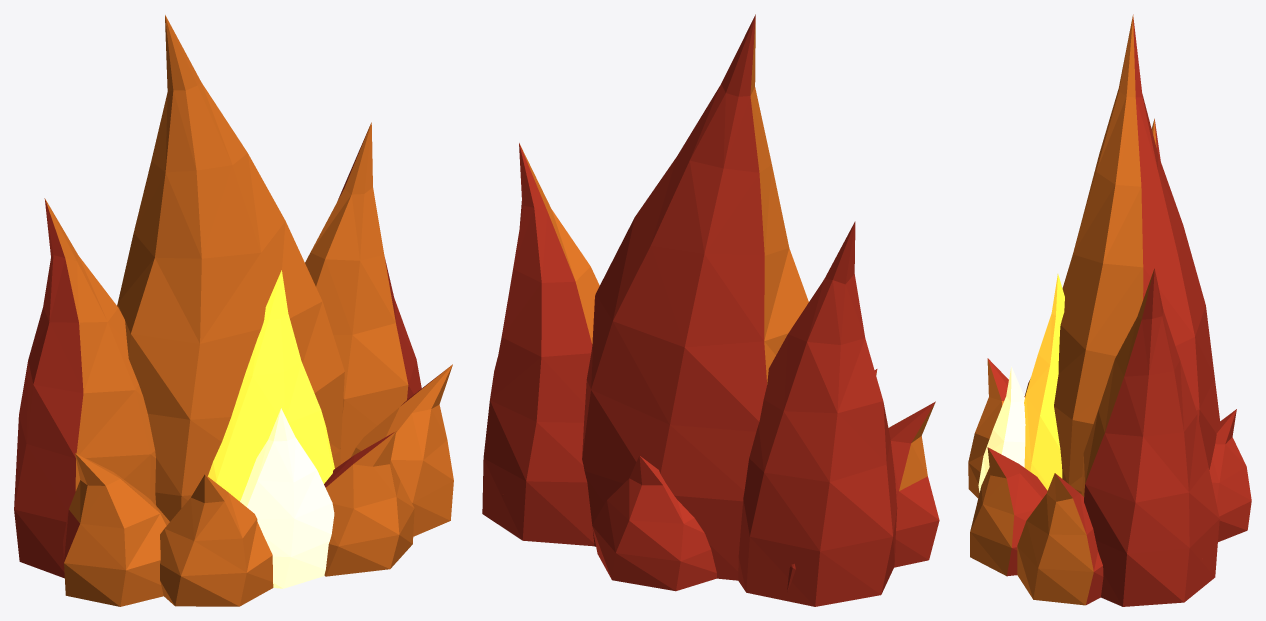
The model's file is KANJI_03_HI.fbx.
3 renders of one model, left to right at view 1: azimuth 30°, elevation 25°; view 2: azimuth 150°, elevation 25°; view 3: azimuth 270°, elevation 25°, orthographic. The views are drawn at different scales.
Parts seen in each view (by area): view 1: SM_KANJI_03_Hi; view 2: SM_KANJI_03_Hi; view 3: SM_KANJI_03_Hi.
Part boxes in pixels (x1,y1,x2,y2): SM_KANJI_03_Hi: (14, 15, 453, 606); SM_KANJI_03_Hi: (482, 14, 939, 606); SM_KANJI_03_Hi: (968, 14, 1251, 606).
Size of the model in its own units: 0.24 by 0.3 by 0.16.
